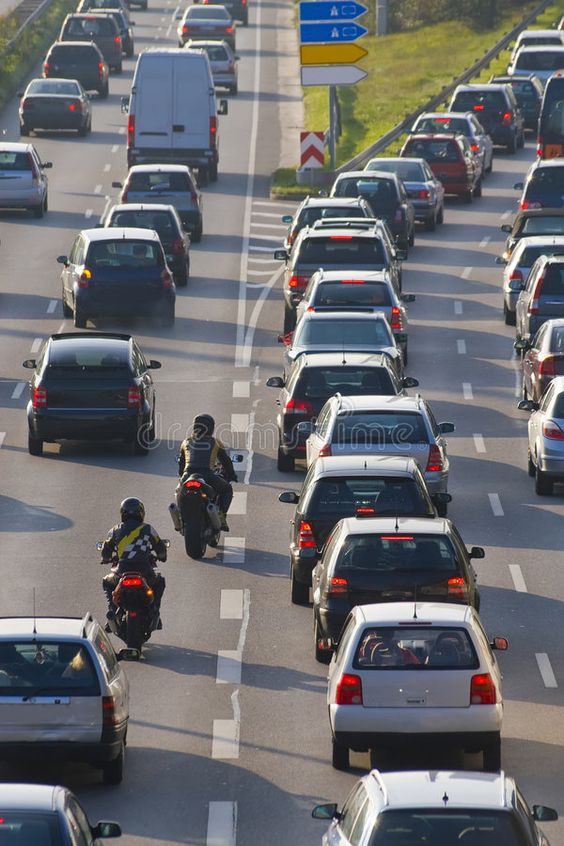car: (323, 595, 513, 781), (306, 512, 487, 659), (279, 448, 446, 593), (1, 610, 130, 786), (313, 766, 562, 846), (301, 391, 452, 511), (267, 346, 418, 466), (16, 331, 167, 451), (51, 222, 177, 331), (280, 219, 403, 319), (276, 308, 408, 392), (294, 266, 410, 350), (96, 198, 193, 285), (1, 781, 123, 846), (319, 167, 417, 240), (351, 153, 446, 227), (394, 128, 489, 202), (117, 163, 202, 241), (288, 195, 386, 261), (406, 110, 496, 176), (305, 216, 399, 278), (438, 80, 521, 149), (499, 233, 564, 321), (519, 372, 564, 496), (21, 76, 97, 144), (39, 34, 115, 102), (519, 311, 564, 412), (517, 253, 562, 354), (500, 207, 564, 273), (59, 11, 126, 72), (176, 38, 240, 97), (1, 141, 49, 216), (482, 72, 545, 127), (517, 155, 564, 221), (172, 3, 238, 49), (509, 45, 564, 94), (509, 28, 564, 77), (85, 7, 137, 54), (200, 1, 254, 25)
truck: (124, 43, 222, 179), (535, 71, 564, 160)
